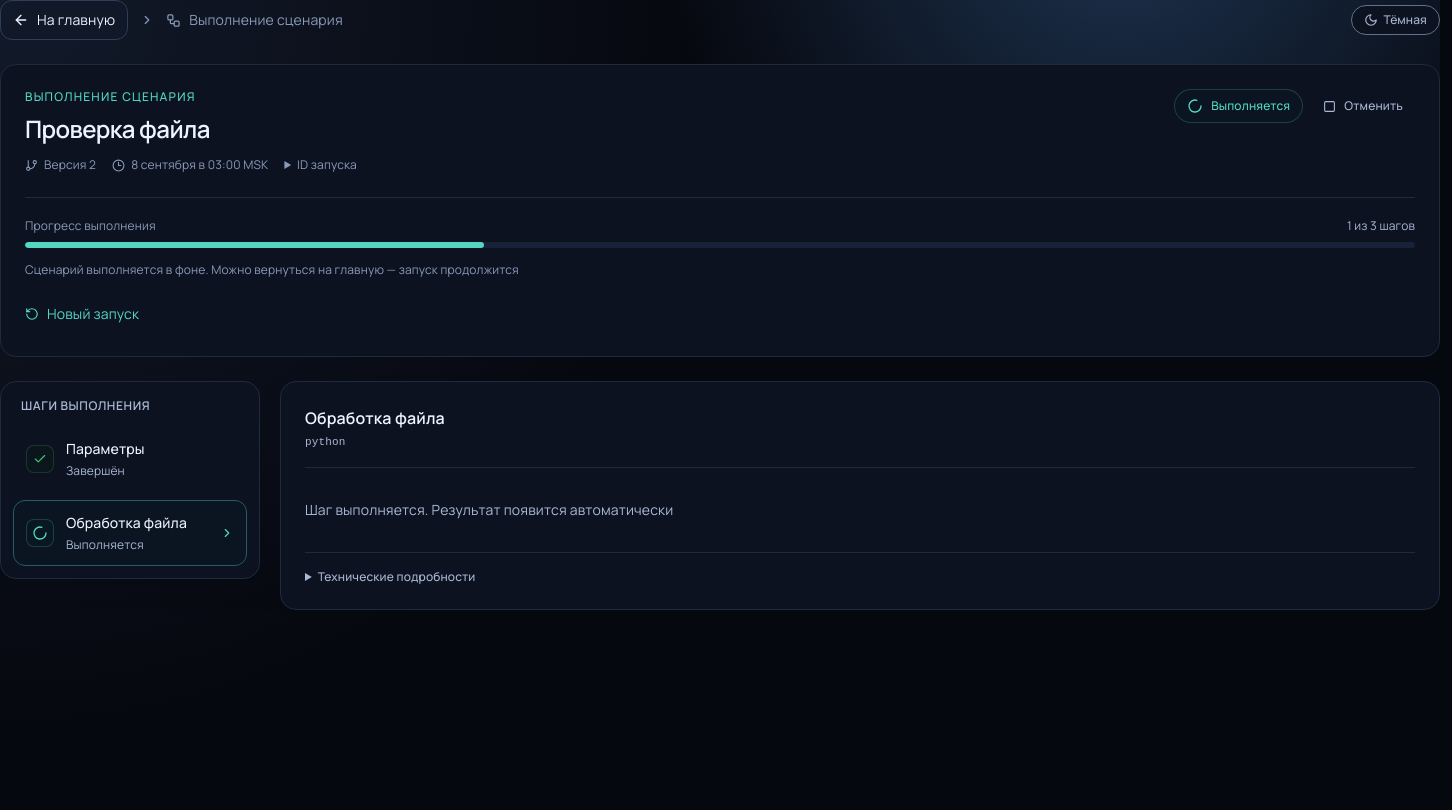
Scenario: execution page navigation and progress › uses published step titles and focuses the active step
Expected: the heading "Обработка файла" is shown, [305,406,445,430]
Click the button "Параметры Завершён": (130, 459) [13,426,247,492]
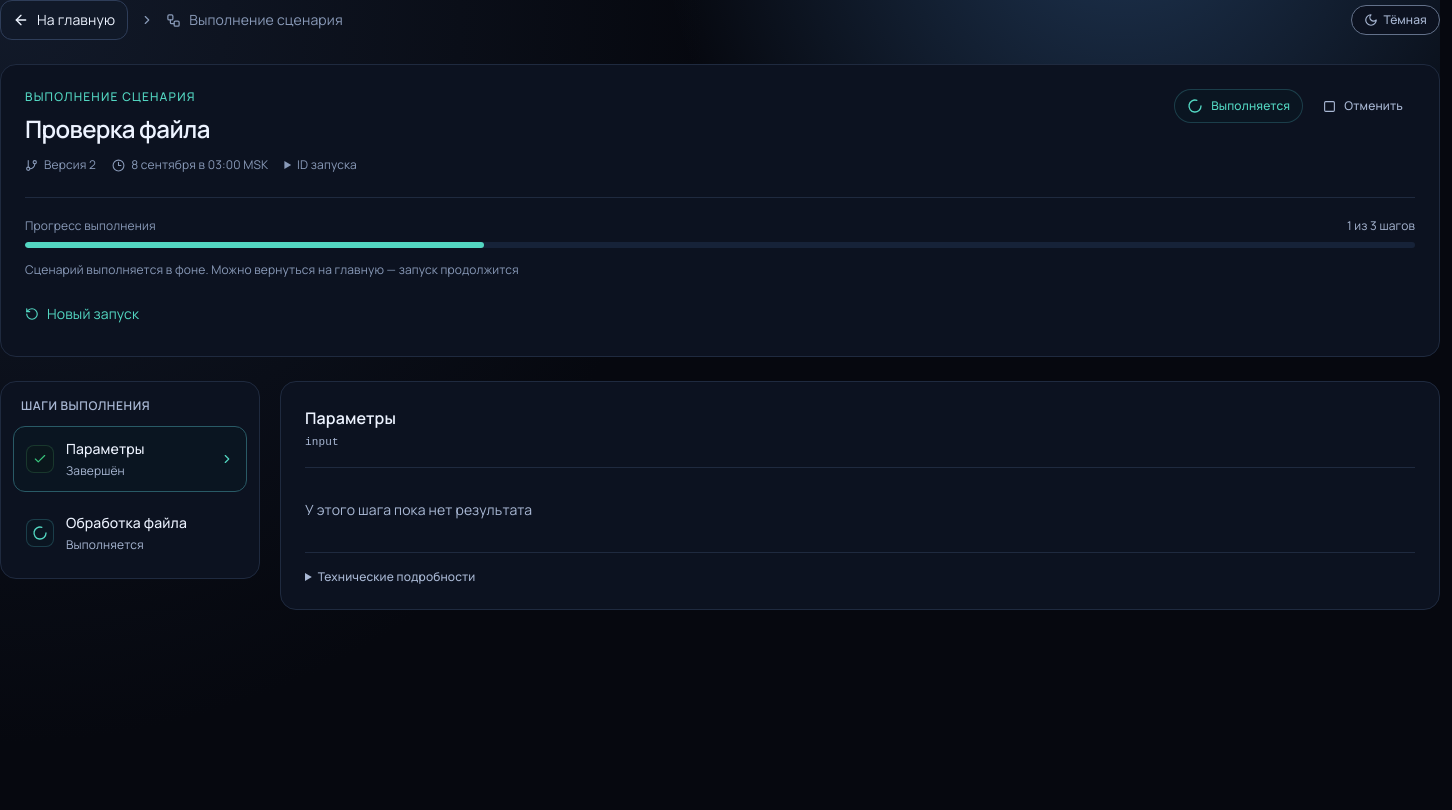
Now the heading "Параметры" is shown, box [305,406,396,430]
